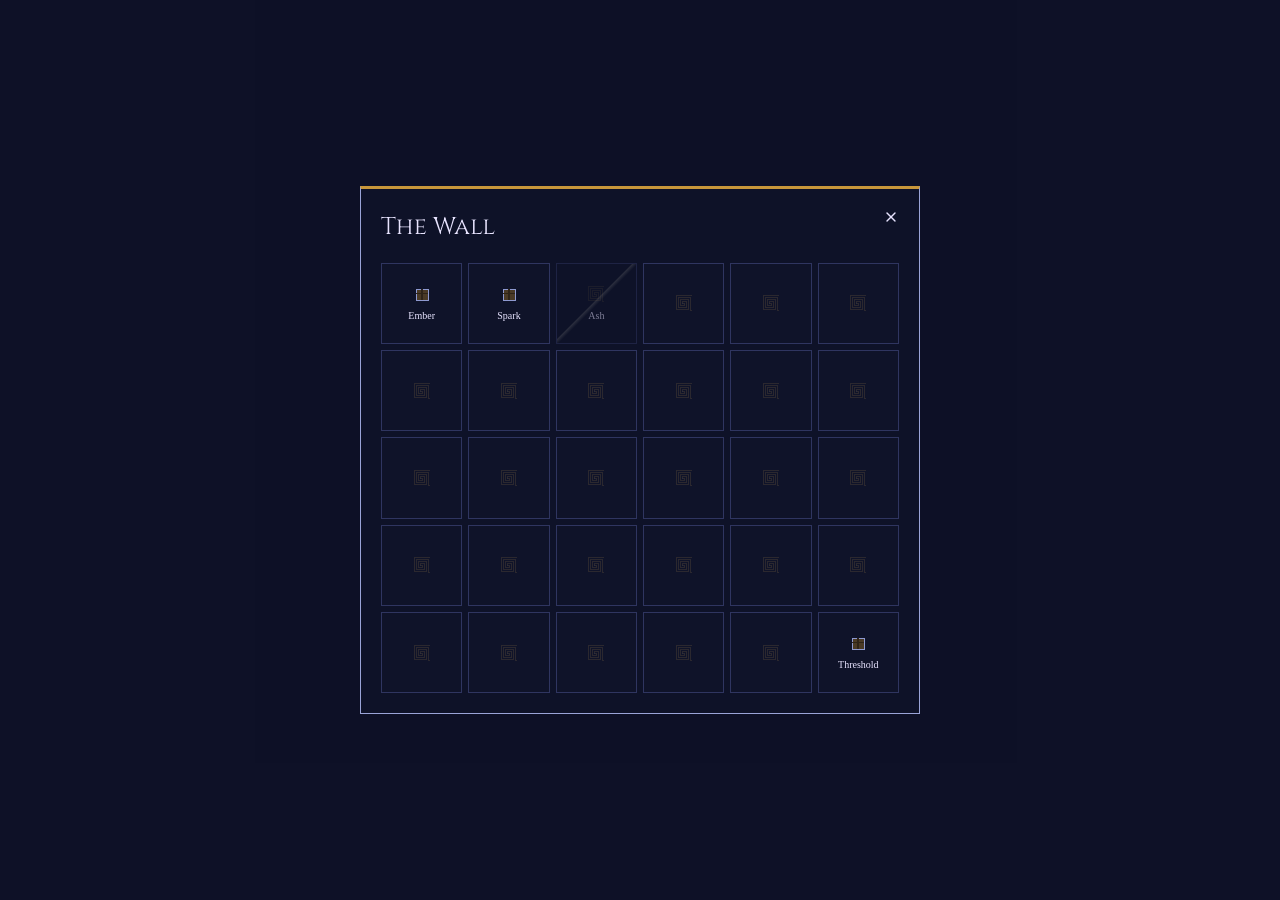
Test: Wall renders thirty sockets with sleeping, set, sold and unnamed empty states
The width and height of the screenshot is (1280, 900).
Click the button with aria-label "Ember, asleep" at coordinates (422, 303), box [381,263,462,344]
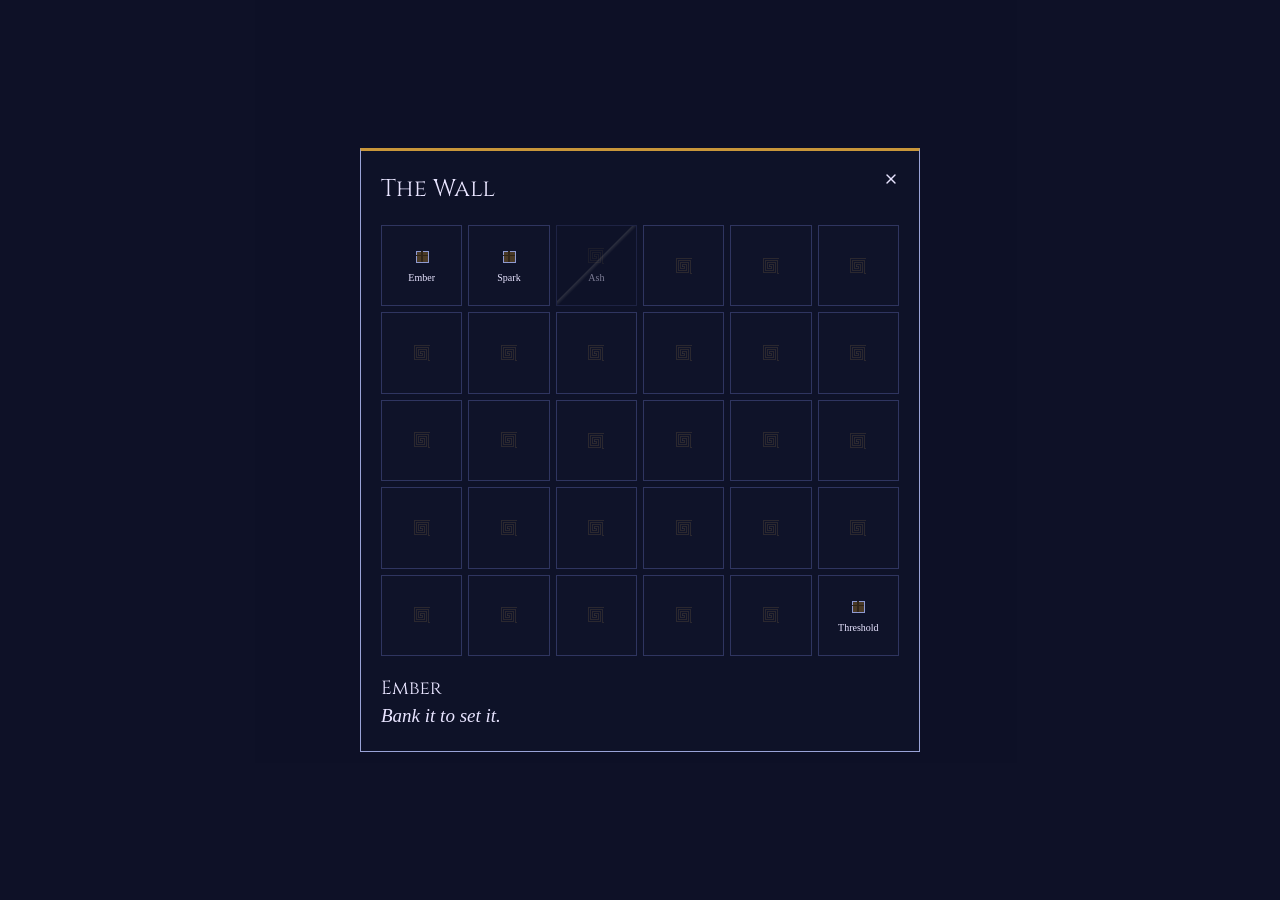
Result: the text "Bank it to set it." is shown at [381,705,501,726]
Click the button with aria-label "Ash, sold" at coordinates (596, 266), box [556,225,637,306]
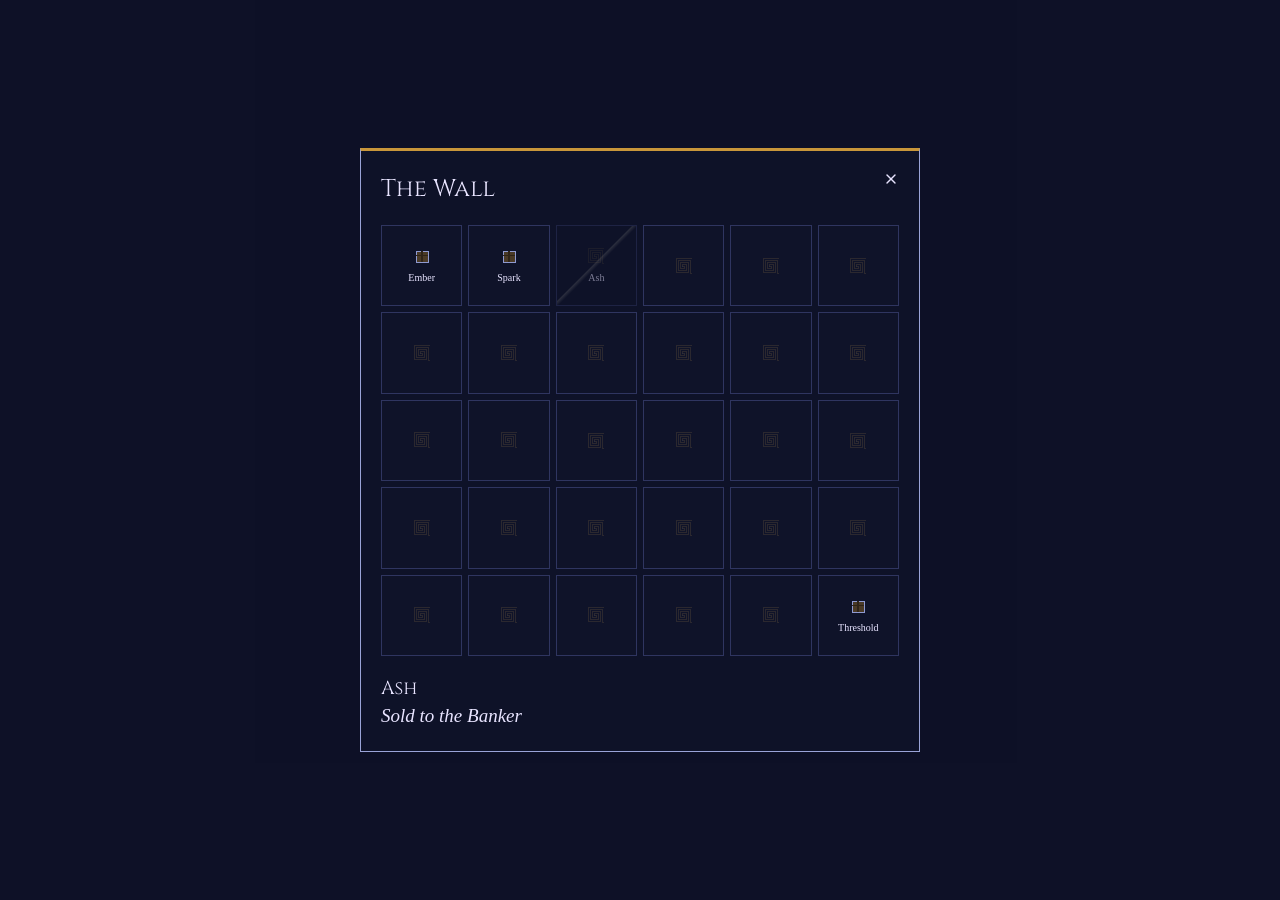
Result: the text "Sold to the Banker" is shown at [381,705,522,726]
